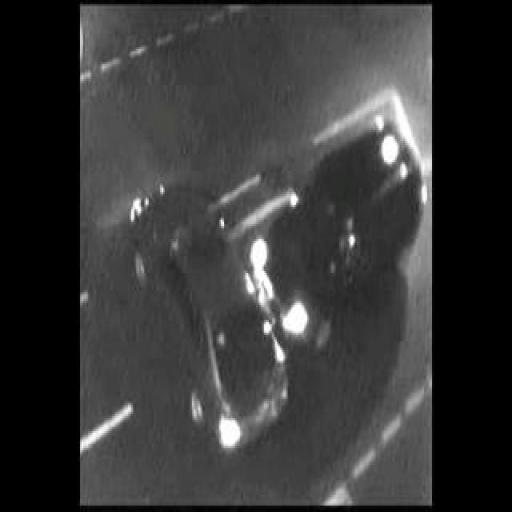Car: (126, 176, 295, 442), (262, 130, 423, 332)
Minor Accident: (140, 168, 404, 425)
